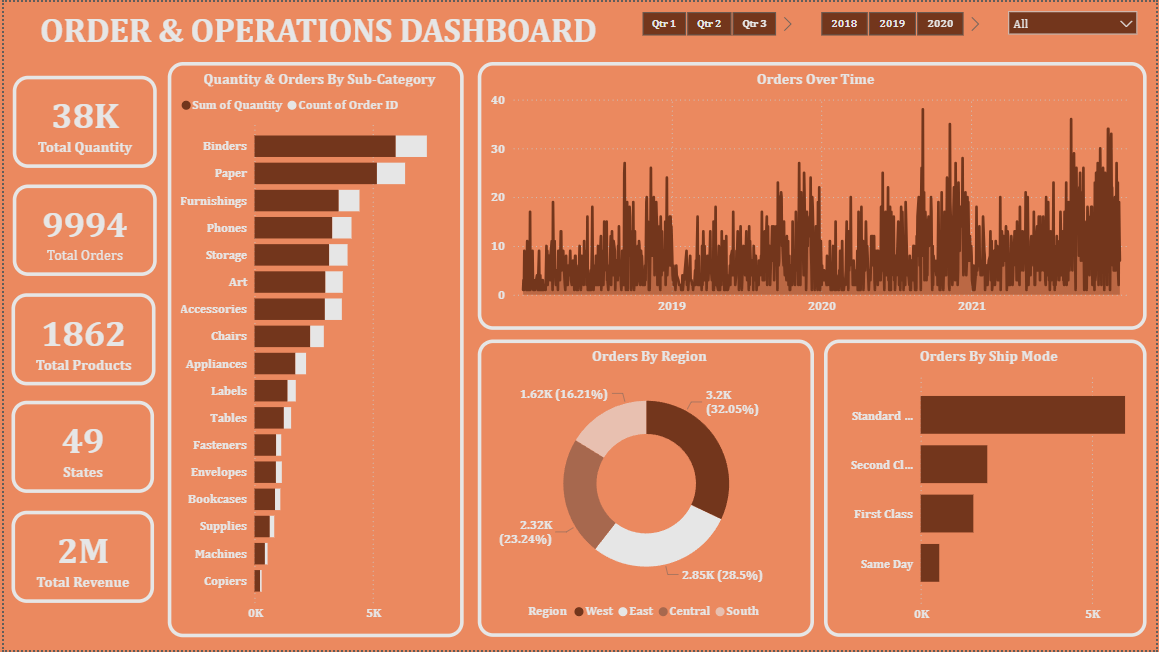

This screenshot's page, from the dashboard's own definition file:
{"tool":"powerbi","page":{"name":"Page 3","canvas":[1280,720],"ordinal":5},"visuals":[{"type":"areaChart","title":"Orders Over Time","fields":{"Category":["Orders.Order Date.Variation.Date Hierarchy.Year","Orders.Order Date.Variation.Date Hierarchy.Quarter","Orders.Order Date.Variation.Date Hierarchy.Month","Orders.Order Date.Variation.Date Hierarchy.Day"],"Y":["CountNonNull(Orders.Order ID)"]},"box":[526.4,66.7,743.1,297.2],"z":0},{"type":"barChart","title":"Orders By Ship Mode","fields":{"Category":["Orders.Ship Mode"],"Y":["CountNonNull(Orders.Order ID)"]},"box":[911.1,375,358.3,330.6],"z":1},{"type":"donutChart","title":"Orders By Region","fields":{"Y":["CountNonNull(Orders.Order ID)"],"Category":["Orders.Region"]},"box":[526.4,375,373.6,330.6],"z":2},{"type":"barChart","title":"Quantity & Orders By Sub-Category","fields":{"Category":["Orders.Sub-Category"],"Y":["Sum(Orders.Quantity)","Count(Orders.Order ID)"]},"box":[181.9,66.7,329.2,638.9],"z":3},{"type":"slicer","fields":{"Values":["Orders.Order Date.Variation.Date Hierarchy.Year"]},"box":[881.9,4.2,208.3,38.9],"z":4},{"type":"slicer","fields":{"Values":["Orders.Order Date.Variation.Date Hierarchy.Quarter"]},"box":[683.3,4.2,198.6,38.9],"z":5},{"type":"card","fields":{"Values":["Sum(Orders.Quantity)"]},"box":[9.7,81.9,159.7,102.8],"z":6},{"type":"card","fields":{"Values":["CountNonNull(Orders.Order ID)"]},"box":[9.7,202.8,159.7,101.4],"z":7},{"type":"card","fields":{"Values":["Count(Orders.Product ID)"]},"box":[8.3,323.6,159.7,102.8],"z":8},{"type":"card","fields":{"Values":["Count(Orders.State)"]},"box":[8.3,443.1,158.3,102.8],"z":9},{"type":"card","fields":{"Values":["Sum(Orders.Sales)"]},"box":[8.3,565.3,158.3,102.8],"z":10},{"type":"slicer","fields":{"Values":["Orders.State"]},"box":[1105.6,0,163.9,52.8],"z":11},{"type":"textbox","box":[0,4.2,698.6,62.5],"z":12}]}

Visuals, with their boxes in screenshot pixels (x1, y1, x2, y2), scaled from the page's 1280x720 canvas onto the 1159x652 screenshot:
"Orders Over Time" areaChart: bbox(477, 60, 1149, 330)
"Orders By Ship Mode" barChart: bbox(825, 340, 1149, 639)
"Orders By Region" donutChart: bbox(477, 340, 815, 639)
"Quantity & Orders By Sub-Category" barChart: bbox(165, 60, 463, 639)
slicer - Orders.Order Date.Variation.Date Hierarchy.Year: bbox(799, 4, 987, 39)
slicer - Orders.Order Date.Variation.Date Hierarchy.Quarter: bbox(619, 4, 799, 39)
card - Sum(Orders.Quantity): bbox(9, 74, 153, 167)
card - CountNonNull(Orders.Order ID): bbox(9, 184, 153, 275)
card - Count(Orders.Product ID): bbox(8, 293, 152, 386)
card - Count(Orders.State): bbox(8, 401, 151, 494)
card - Sum(Orders.Sales): bbox(8, 512, 151, 605)
slicer - Orders.State: bbox(1001, 0, 1149, 48)
textbox: bbox(0, 4, 633, 60)
